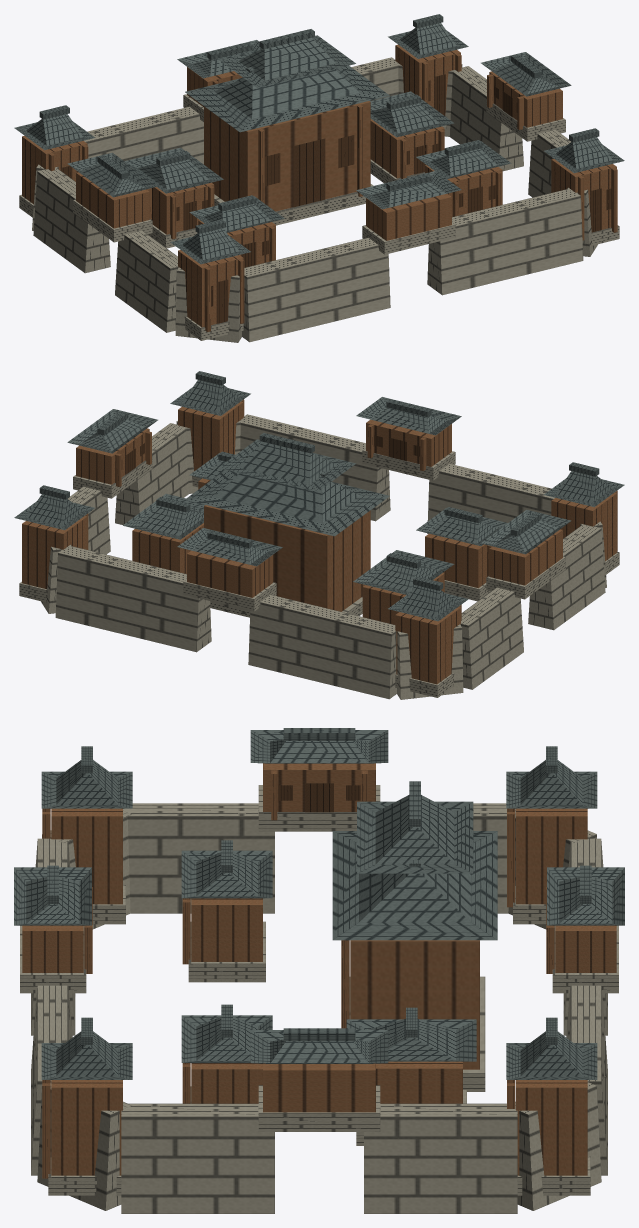
Rendered from city0-lod1.glb.
3 renders of one model, top to bottom at view 1: azimuth 30°, elevation 25°; view 2: azimuth 150°, elevation 25°; view 3: azimuth 270°, elevation 25°, orthographic. The views are drawn at different scales.
Bounding box in the file's own units: 2.31 × 0.821 × 1.79.
1 material, 1 textured.
